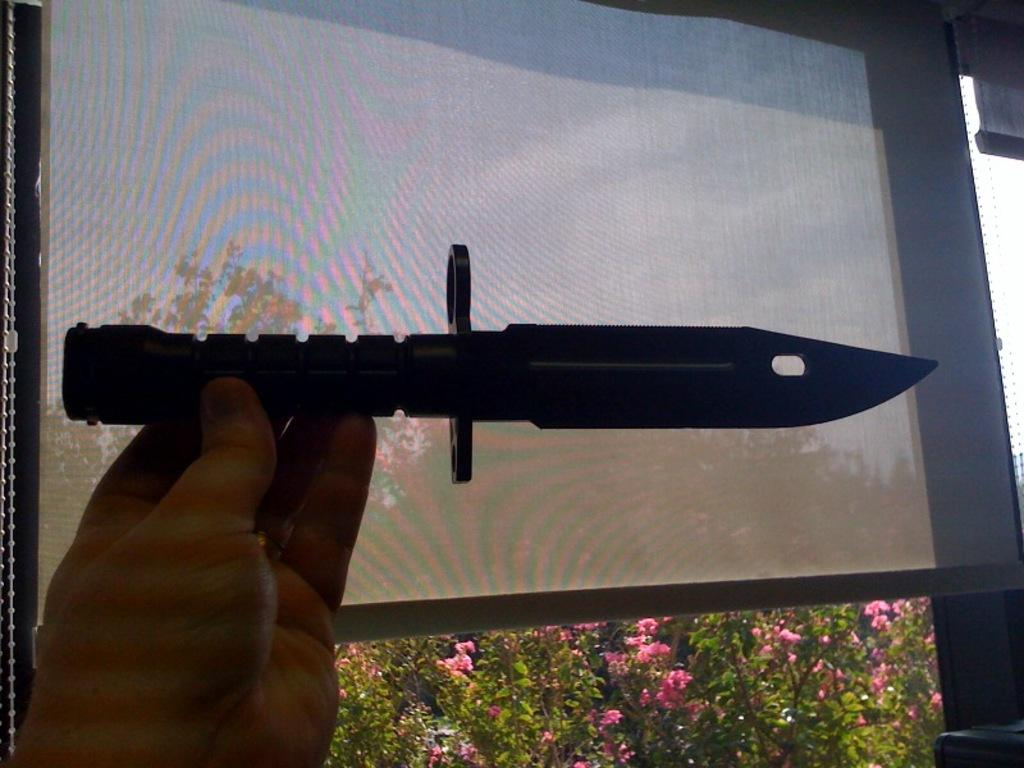knife: (60, 240, 942, 488)
